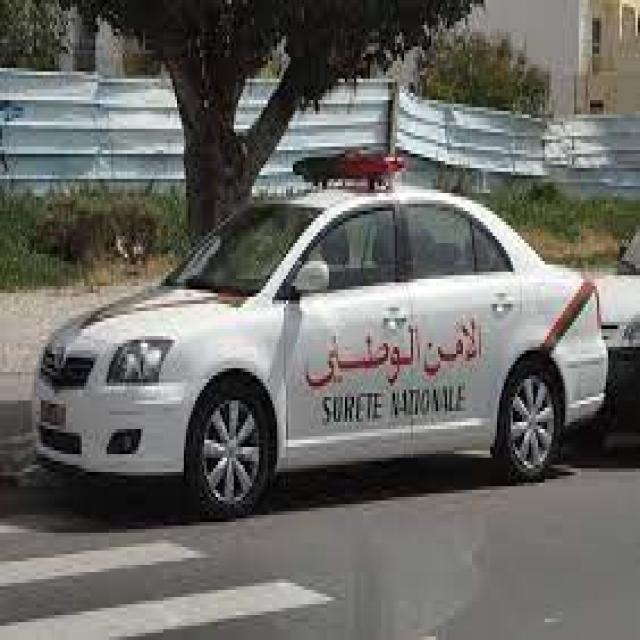police: (38, 142, 610, 495)
